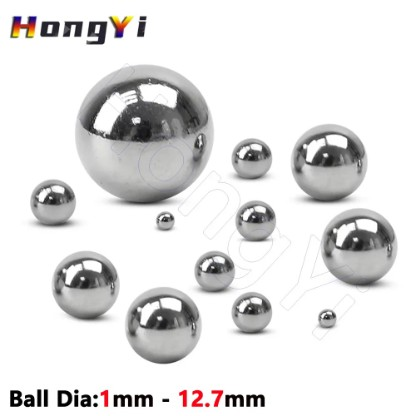ironball: (74, 63, 214, 203), (320, 207, 397, 285), (124, 286, 201, 363), (290, 123, 367, 200), (51, 250, 119, 319), (29, 178, 75, 225), (230, 291, 272, 332), (230, 137, 272, 178), (193, 250, 235, 291), (235, 199, 276, 240), (155, 210, 174, 230), (317, 308, 336, 327)
